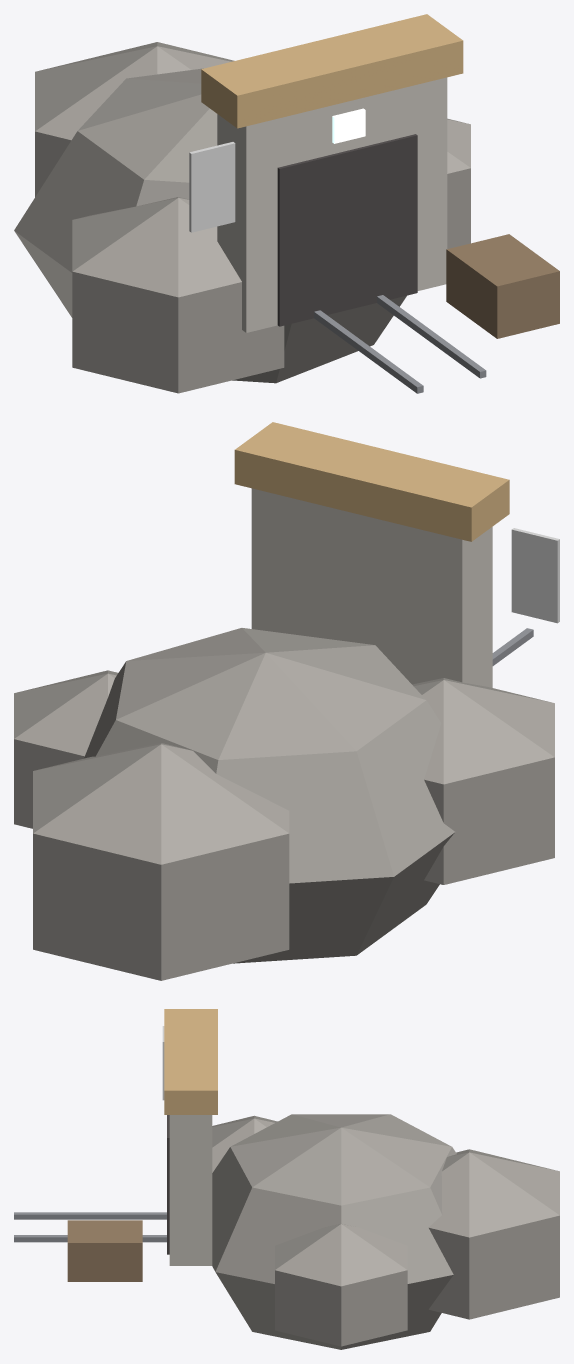
The picture shows the model from 3 angles, top to bottom: view 1: azimuth 30°, elevation 25°; view 2: azimuth 150°, elevation 25°; view 3: azimuth 270°, elevation 25°; orthographic projection. The views are drawn at different scales.
Parts seen in each view (by area): view 1: body; view 2: body; view 3: body.
Part boxes in pixels (box(x1,y1,x2,y2)): body: box(14, 14, 559, 393); body: box(14, 422, 559, 980); body: box(14, 1009, 559, 1349).
Size of the model in its own units: 7.29 by 5.8 by 10.18.
